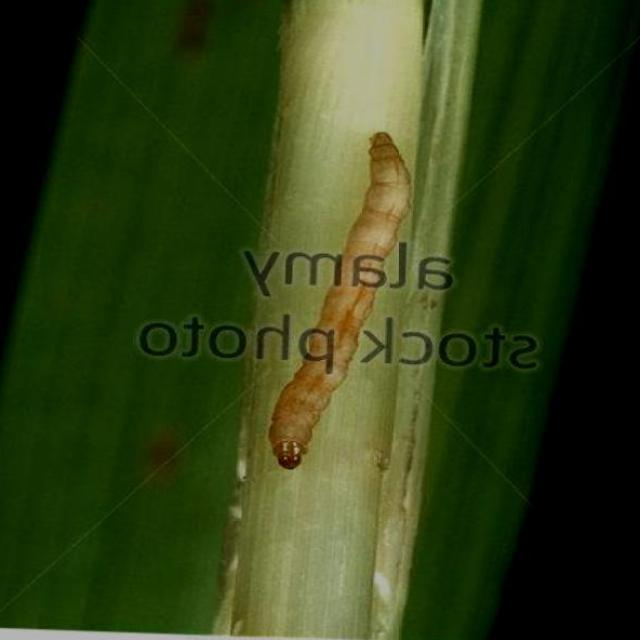stem borer: (270, 133, 409, 469)
